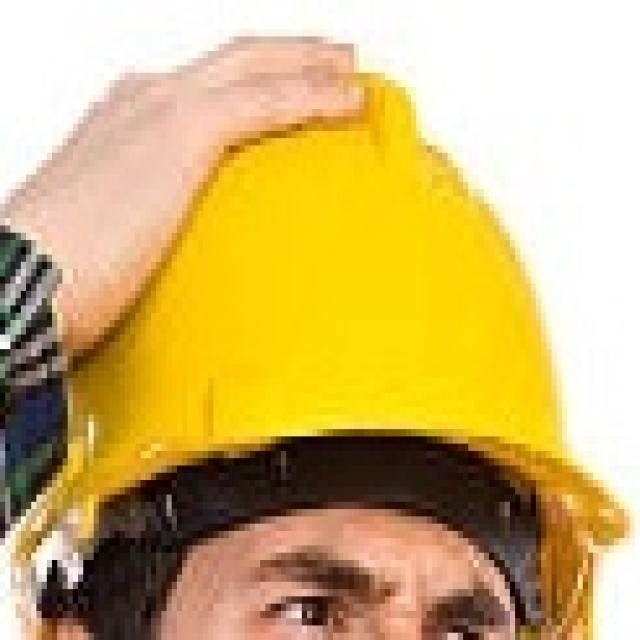safety_helmet: (2, 35, 627, 638)
